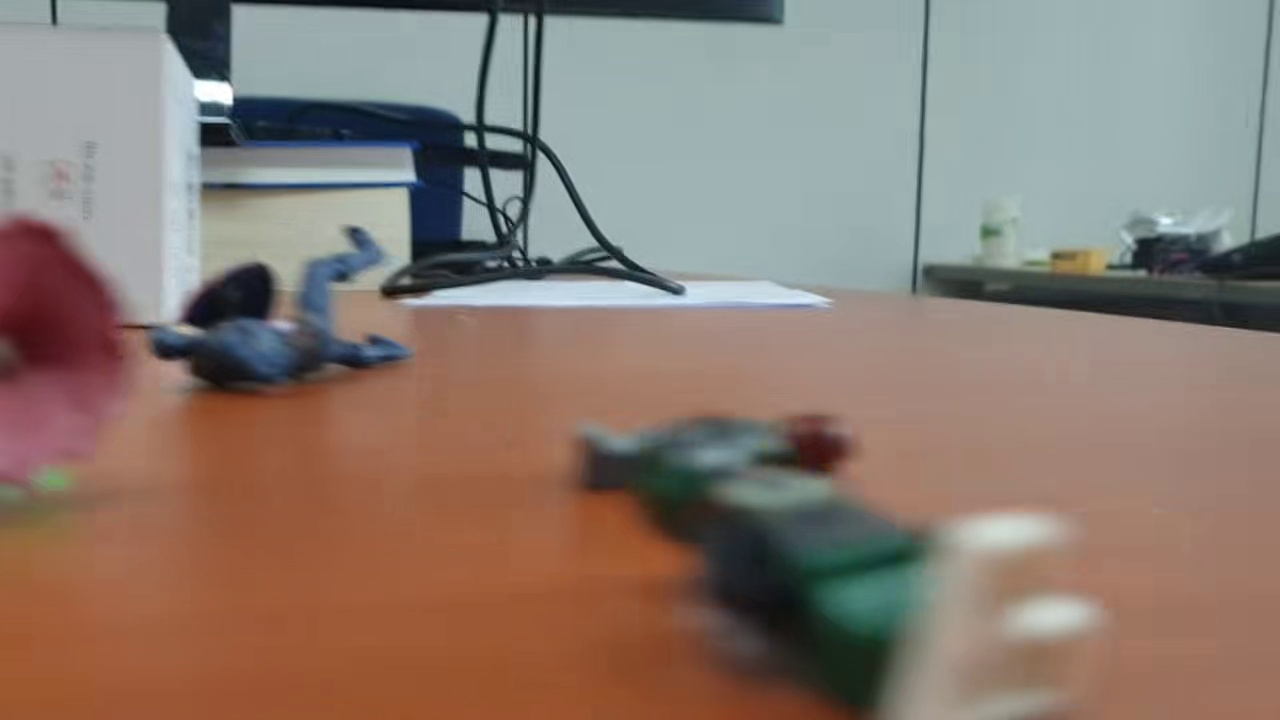people: (624, 450, 1102, 720), (143, 218, 413, 399), (572, 403, 860, 512)
tree: (1, 210, 135, 509)
